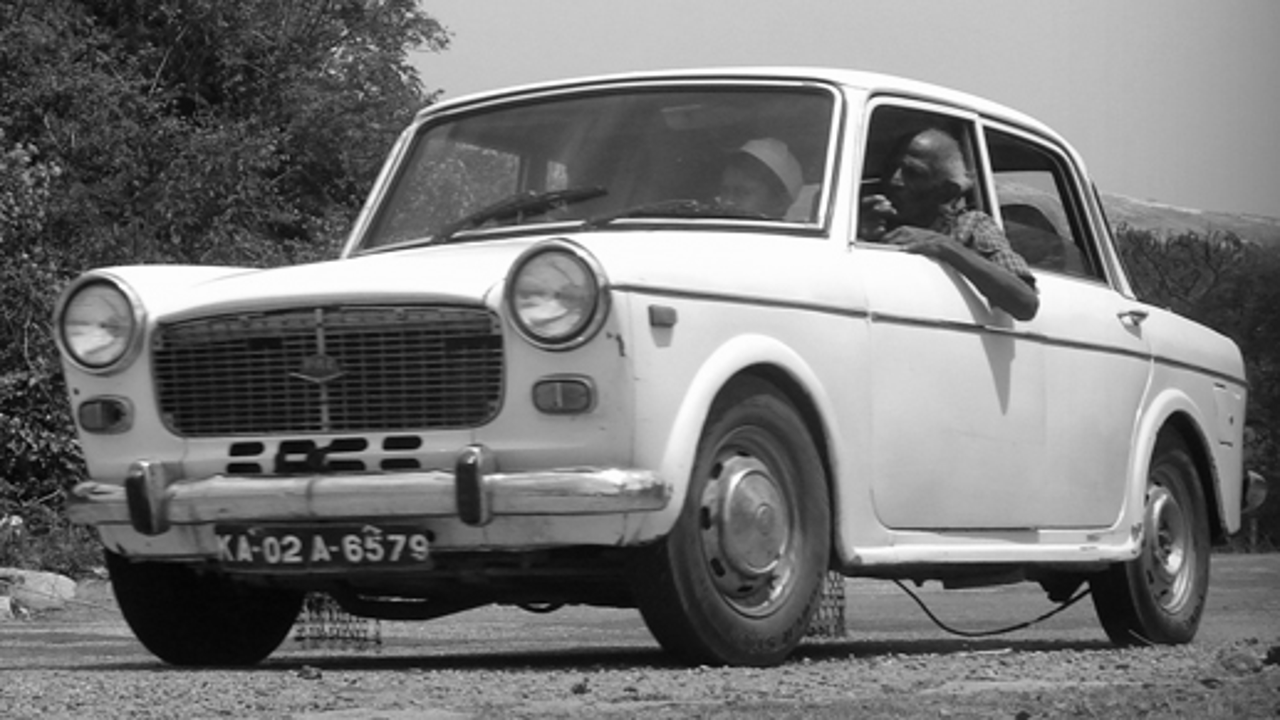license: (204, 508, 452, 575)
